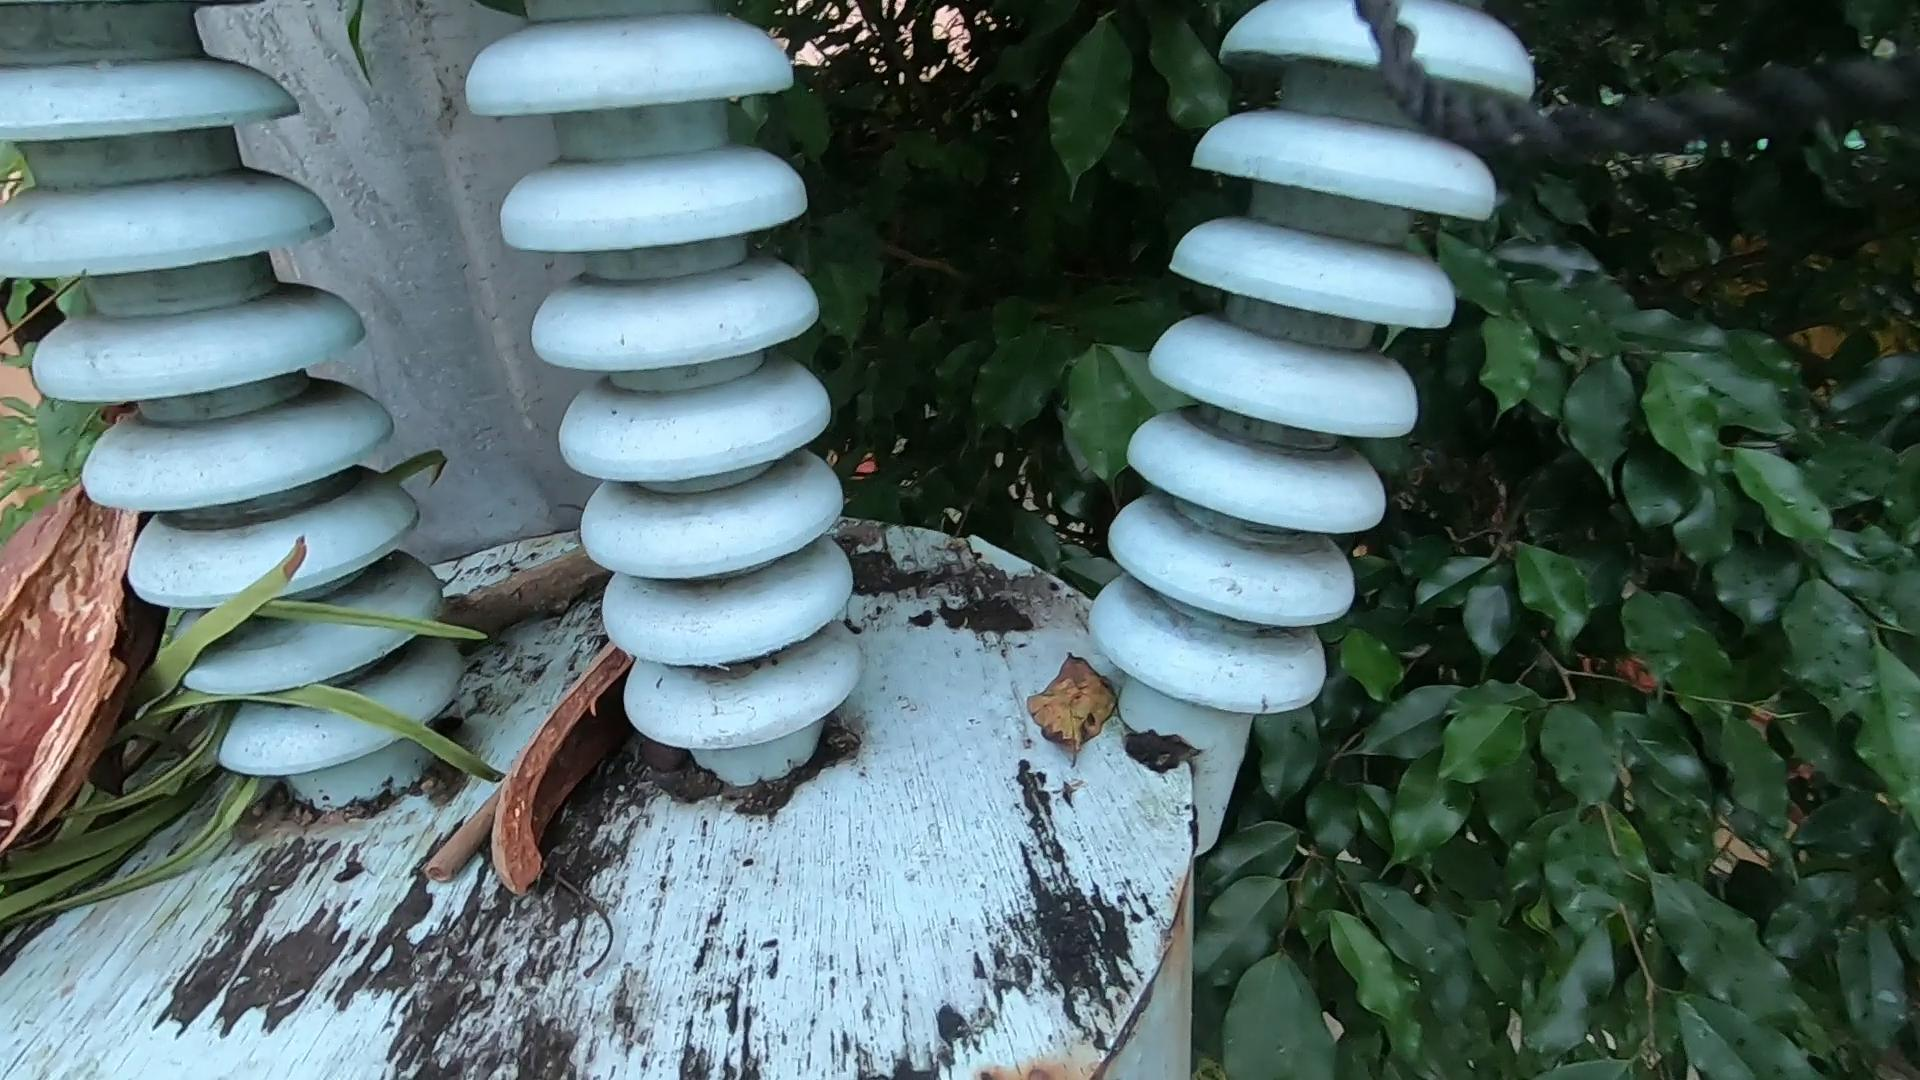branch with leaves: (41, 488, 576, 887)
leaf: (1001, 626, 1133, 789)
mahogany fruit: (1, 509, 253, 787), (495, 665, 683, 907)
tree branch: (444, 707, 572, 938)
